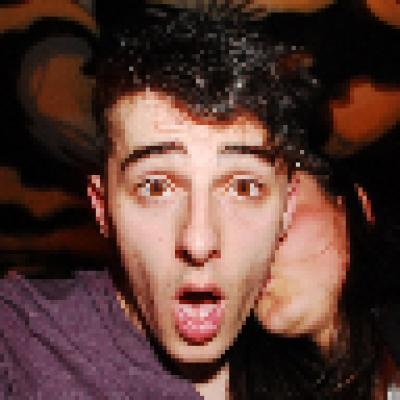surprise: (108, 82, 278, 364)
